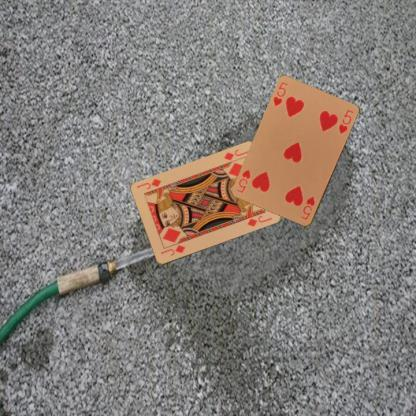5h: (271, 80, 289, 107), (299, 194, 316, 221)
Jd: (221, 147, 250, 162), (158, 243, 186, 257)
